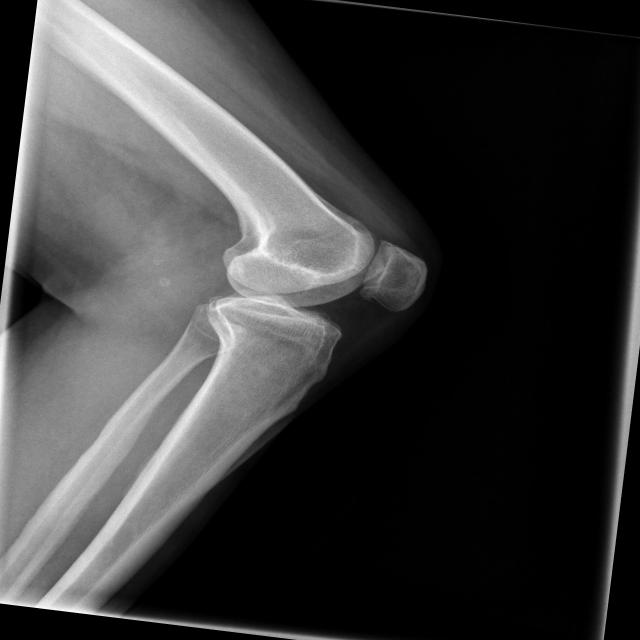Knee: (195, 213, 432, 383)
